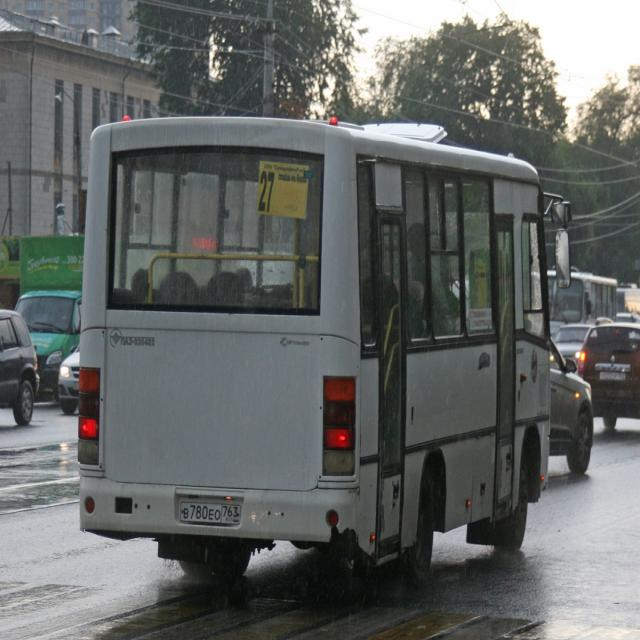number-of-bus: (258, 172, 277, 215)
